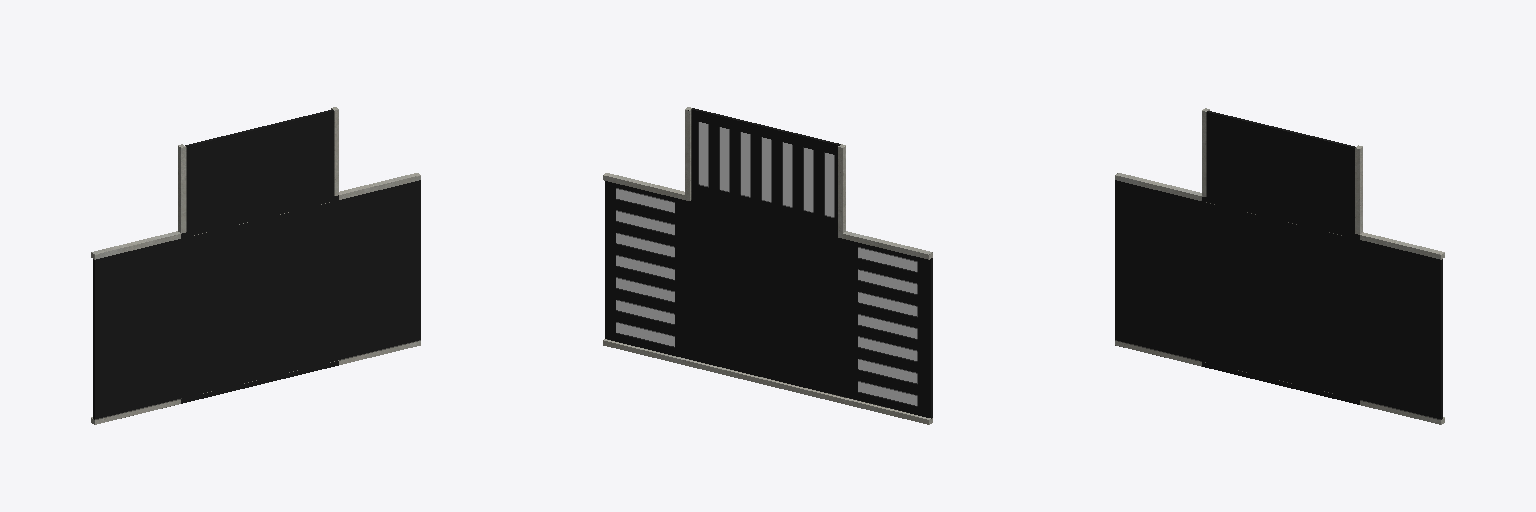
3 views of the same model, side by side, from view 1: azimuth 30°, elevation 25°; view 2: azimuth 150°, elevation 25°; view 3: azimuth 330°, elevation 25° (orthographic).
Visible parts, largest first — view 1: road-cross-three_Plane.005; view 2: road-cross-three_Plane.005; view 3: road-cross-three_Plane.005.
Part boxes in pixels (bbox=[...]): road-cross-three_Plane.005: bbox=[91, 107, 420, 424]; road-cross-three_Plane.005: bbox=[603, 107, 932, 424]; road-cross-three_Plane.005: bbox=[1115, 108, 1444, 424].
Size of the model in its own units: 8 by 5.99 by 0.15.
1 materials, 1 textured.